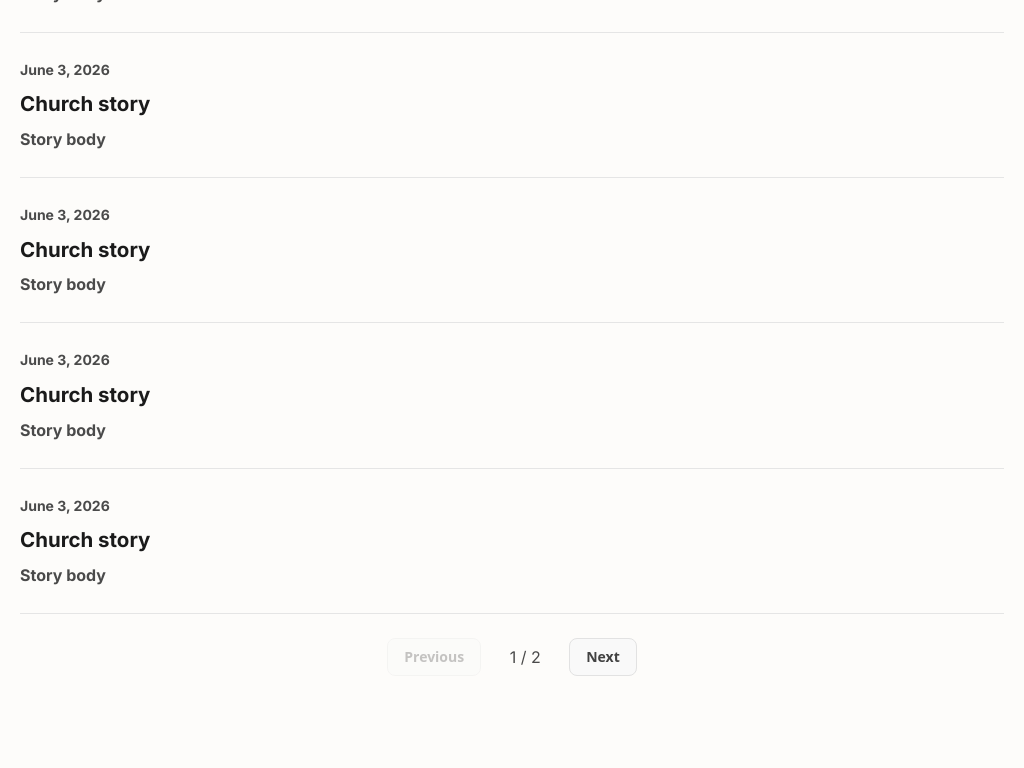
Test case: Saenuree News public pages › paginates church stories by ten items
(page scrolled)
Click the button "Next": (603, 657) [569,638,637,676]
(page scrolled)
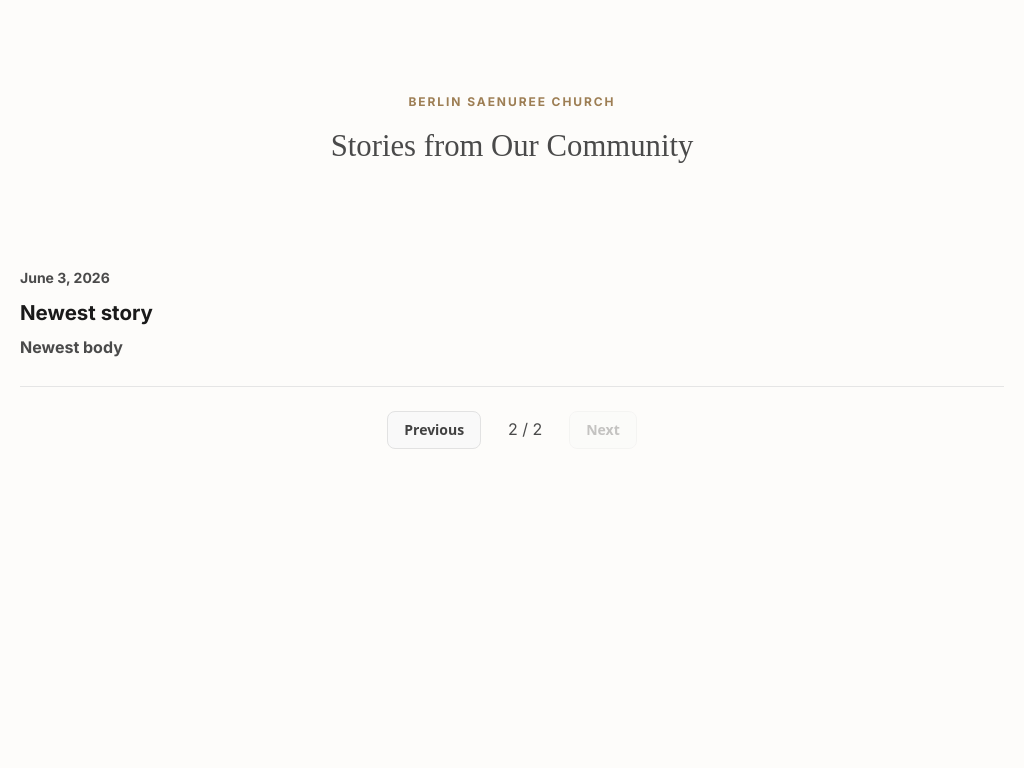
Result: the link "June 3, 2026 Newest story Newest body" is shown at [20,269,153,357]
